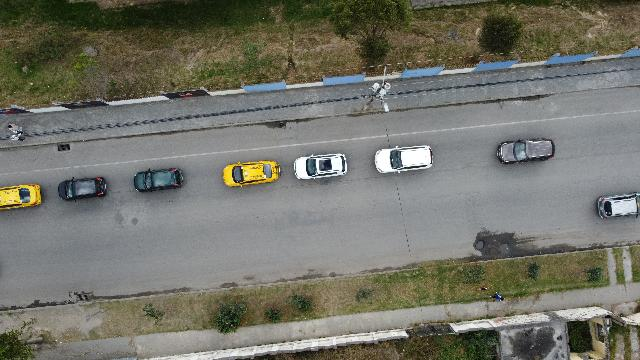Vehiculo: (223, 160, 281, 188), (375, 145, 433, 173), (497, 138, 555, 164), (294, 154, 346, 180), (134, 168, 182, 192), (58, 177, 106, 201), (597, 192, 639, 218), (1, 185, 42, 210)
